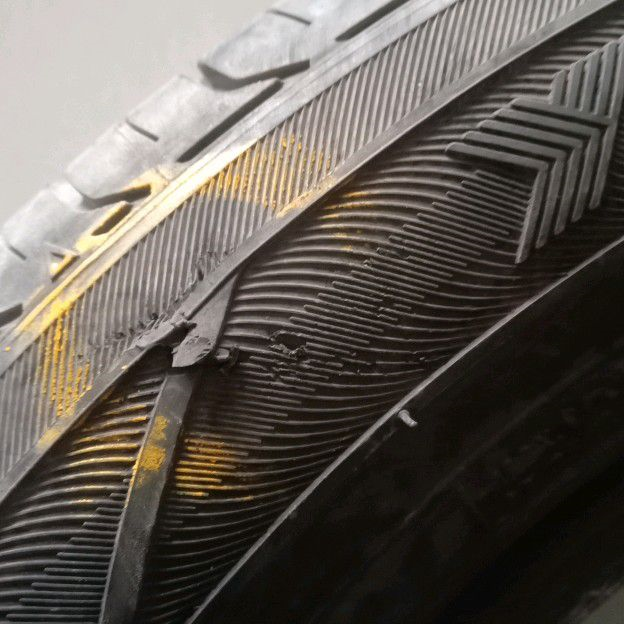cut: (165, 347, 255, 375), (266, 327, 320, 361)
